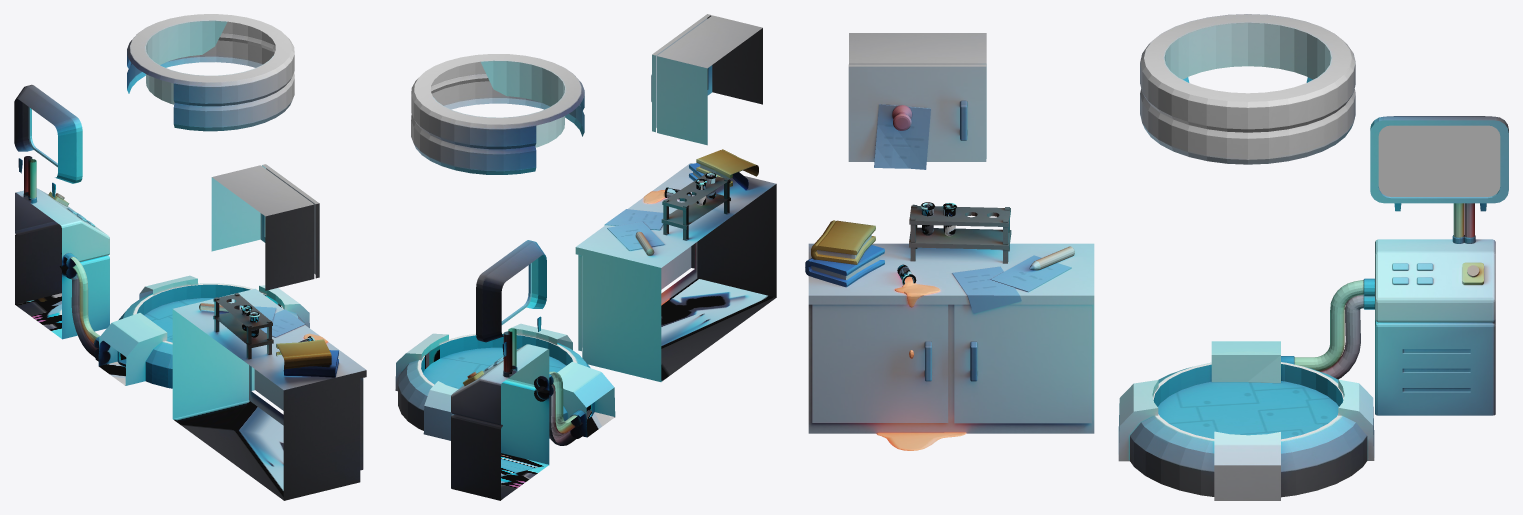
Rendered from shiyan.glb.
The picture shows the model from 3 angles, left to right: view 1: azimuth 30°, elevation 25°; view 2: azimuth 150°, elevation 25°; view 3: azimuth 270°, elevation 25°; orthographic projection. The views are drawn at different scales.
Parts seen in each view (by area): view 1: merged-scene, bottom; view 2: merged-scene, bottom, test-tubes; view 3: merged-scene, desktop, test-tubes.
Boxes of the visible parts, <box> form: merged-scene: <box>14,14,366,500</box>; bottom: <box>15,293,283,499</box>; merged-scene: <box>395,14,776,500</box>; bottom: <box>501,278,775,499</box>; test-tubes: <box>664,172,716,205</box>; merged-scene: <box>805,14,1508,500</box>; desktop: <box>1378,125,1500,196</box>; test-tubes: <box>897,202,956,284</box>.
Bounding box in the file's own units: 3.99 × 6.19 × 10.13.
Materials: 2 (2 with a texture image).
